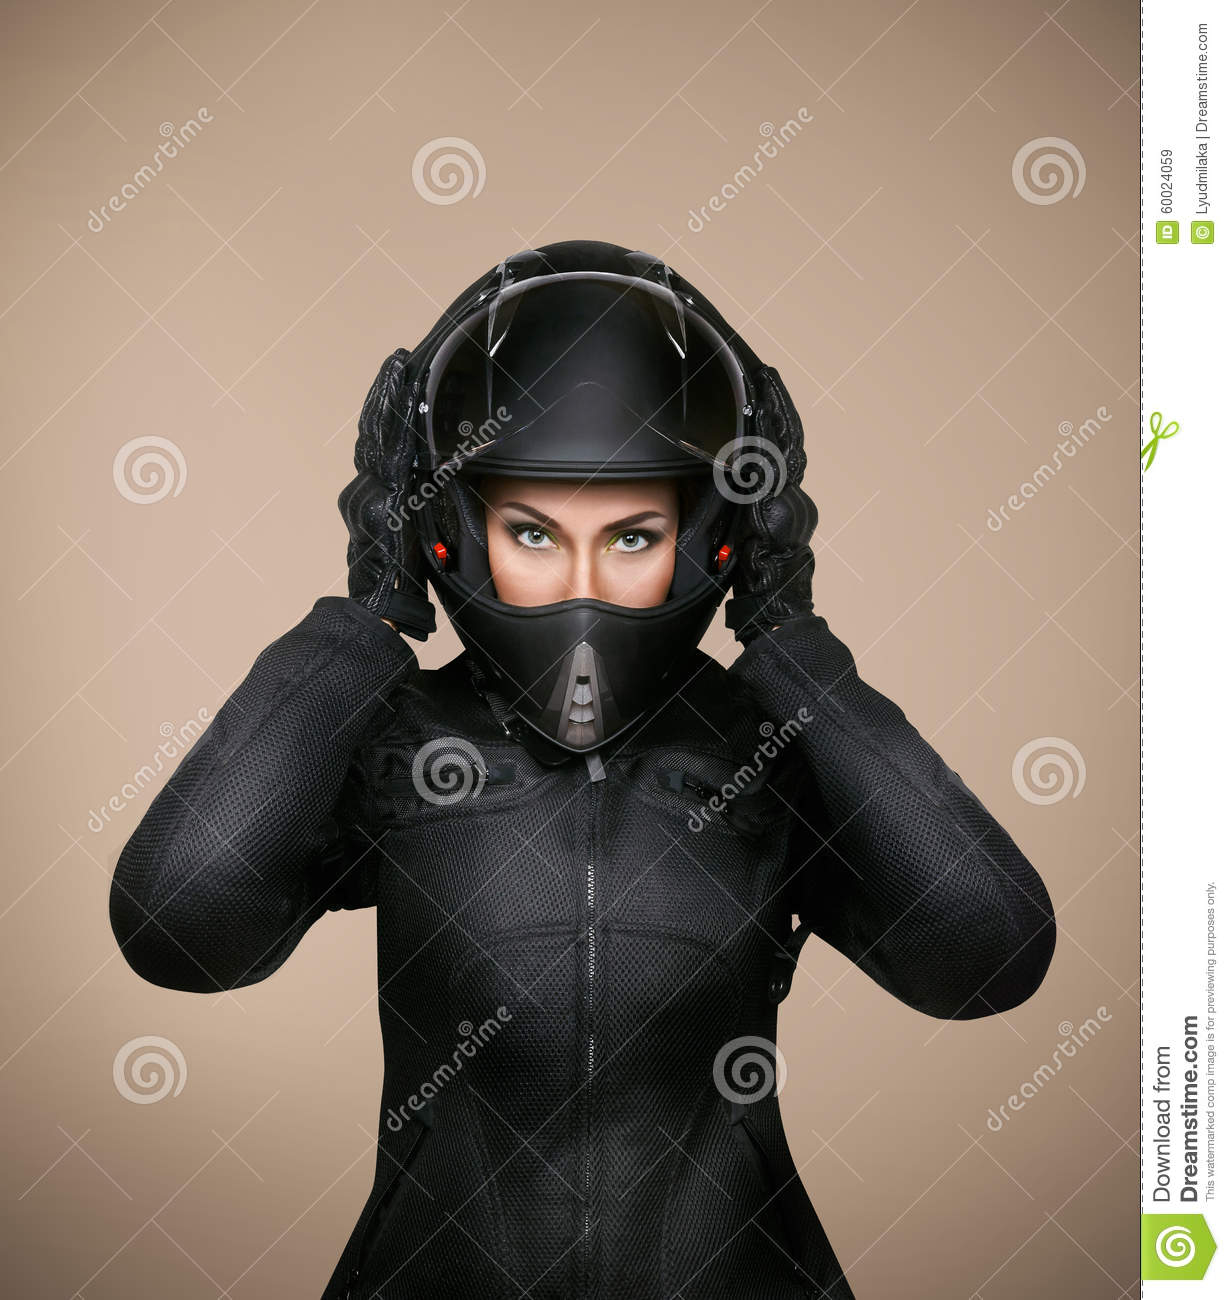helmet: (409, 263, 771, 768)
